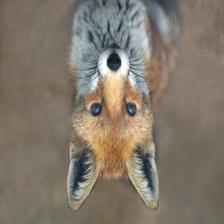fox: (52, 0, 192, 214)
